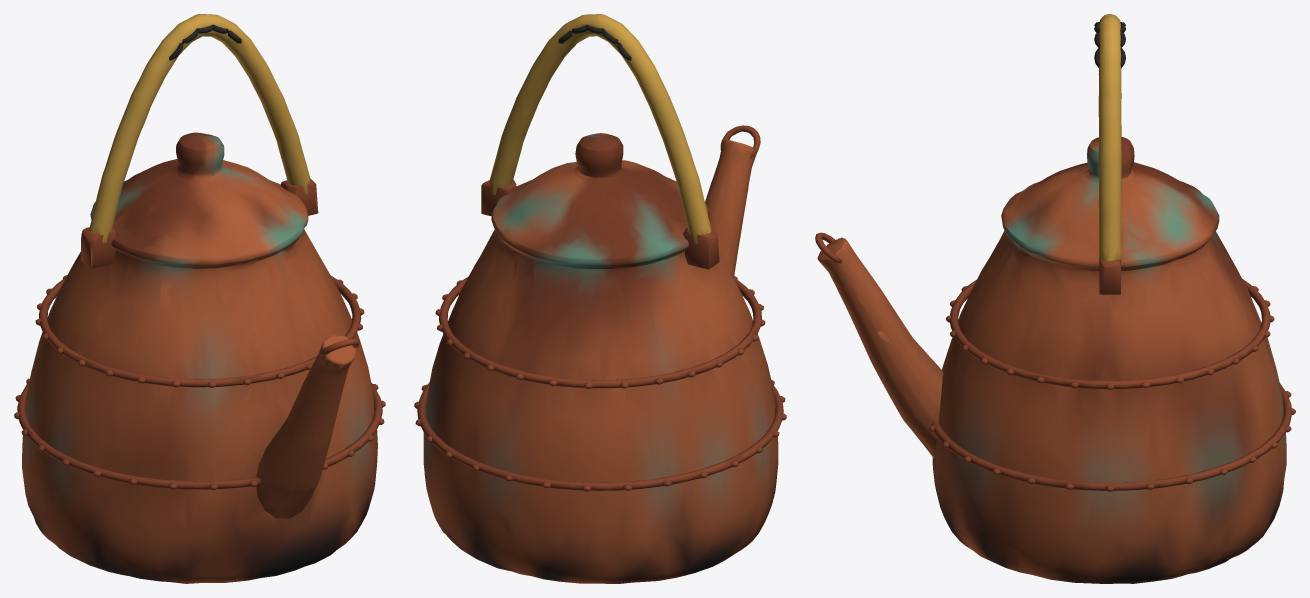
File: ember_kettle.glb
The picture shows the model from 3 angles, left to right: view 1: azimuth 30°, elevation 25°; view 2: azimuth 150°, elevation 25°; view 3: azimuth 270°, elevation 25°; orthographic projection.
Parts seen in each view (by area): view 1: ember_kettle; view 2: ember_kettle; view 3: ember_kettle.
Part boxes in pixels (x1,y1,x2,y2): ember_kettle: (14,14,385,583); ember_kettle: (414,14,786,583); ember_kettle: (815,14,1295,583).
Size of the model in its own units: 27.22 by 40.83 by 35.24.
